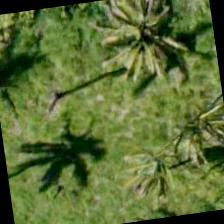Kelapa_Sawit: (110, 120, 211, 222), (135, 94, 223, 197), (96, 0, 198, 86)
